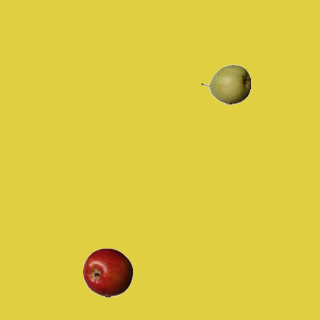Apple Braeburn: (82, 247, 132, 297)
Pear: (200, 59, 250, 109)
